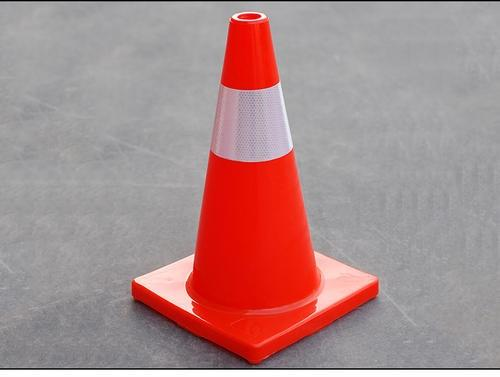cone_barrel: (174, 15, 328, 335)
